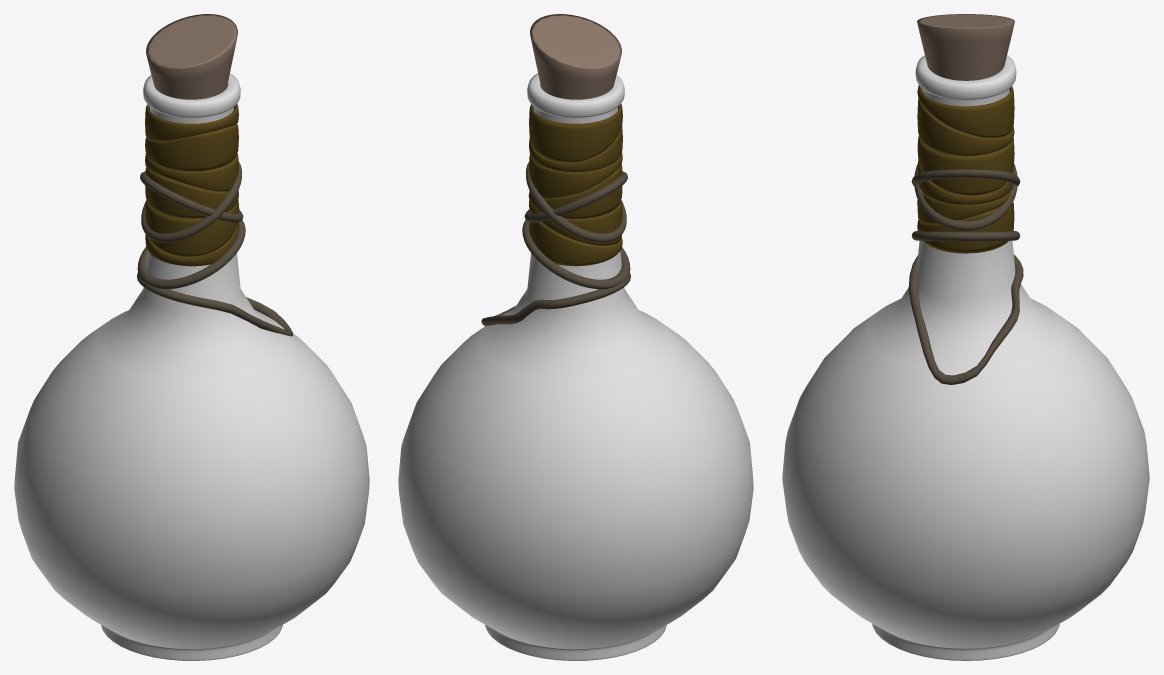
File: Flask.fbx
3 views of the same model, side by side, from view 1: azimuth 30°, elevation 25°; view 2: azimuth 150°, elevation 25°; view 3: azimuth 270°, elevation 25° (orthographic). The views are drawn at different scales.
Parts seen in each view (by area): view 1: glas, stoff, kork, schnur, Schnur, schnur1, schnur2; view 2: glas, stoff, kork, Schnur, schnur, schnur1, schnur2; view 3: glas, stoff, kork, schnur, schnur2, Schnur, schnur1.
Boxes of the visible parts, x1=… form: glas: x1=14, y1=73, x2=369, y2=660; stoff: x1=145, y1=104, x2=239, y2=266; kork: x1=146, y1=14, x2=237, y2=99; schnur: x1=137, y1=272, x2=293, y2=336; Schnur: x1=137, y1=220, x2=245, y2=289; schnur1: x1=141, y1=162, x2=241, y2=242; schnur2: x1=140, y1=171, x2=243, y2=222; glas: x1=398, y1=73, x2=753, y2=660; stoff: x1=528, y1=103, x2=622, y2=266; kork: x1=530, y1=14, x2=621, y2=99; Schnur: x1=522, y1=220, x2=630, y2=289; schnur: x1=481, y1=272, x2=630, y2=326; schnur1: x1=526, y1=162, x2=626, y2=242; schnur2: x1=524, y1=171, x2=627, y2=222; glas: x1=782, y1=55, x2=1149, y2=660; stoff: x1=917, y1=85, x2=1014, y2=253; kork: x1=917, y1=14, x2=1014, y2=80; schnur: x1=908, y1=254, x2=1023, y2=384; schnur2: x1=914, y1=163, x2=1017, y2=230; Schnur: x1=911, y1=231, x2=1020, y2=241; schnur1: x1=911, y1=169, x2=1020, y2=186.
Size of the model in its own units: 7.45 by 13.7 by 7.45.
